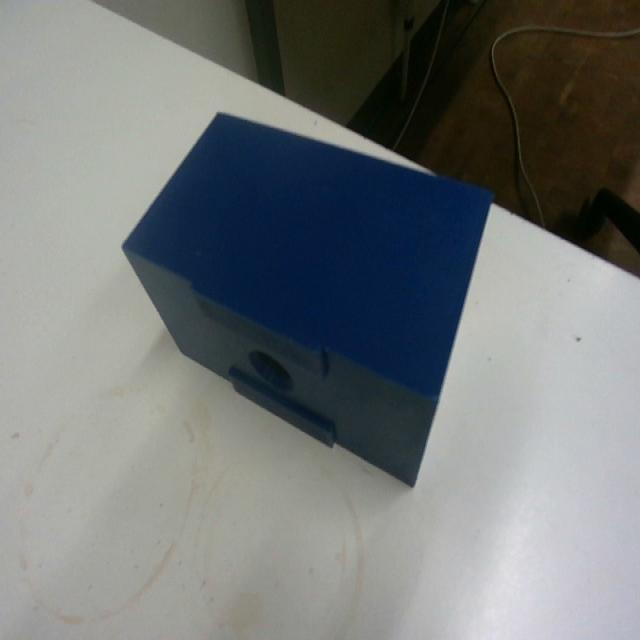Blue Cuboid: (119, 107, 495, 488)
